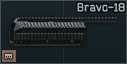SOK-12 Bravo-18 aluminium handguard: (0, 0, 127, 64)
